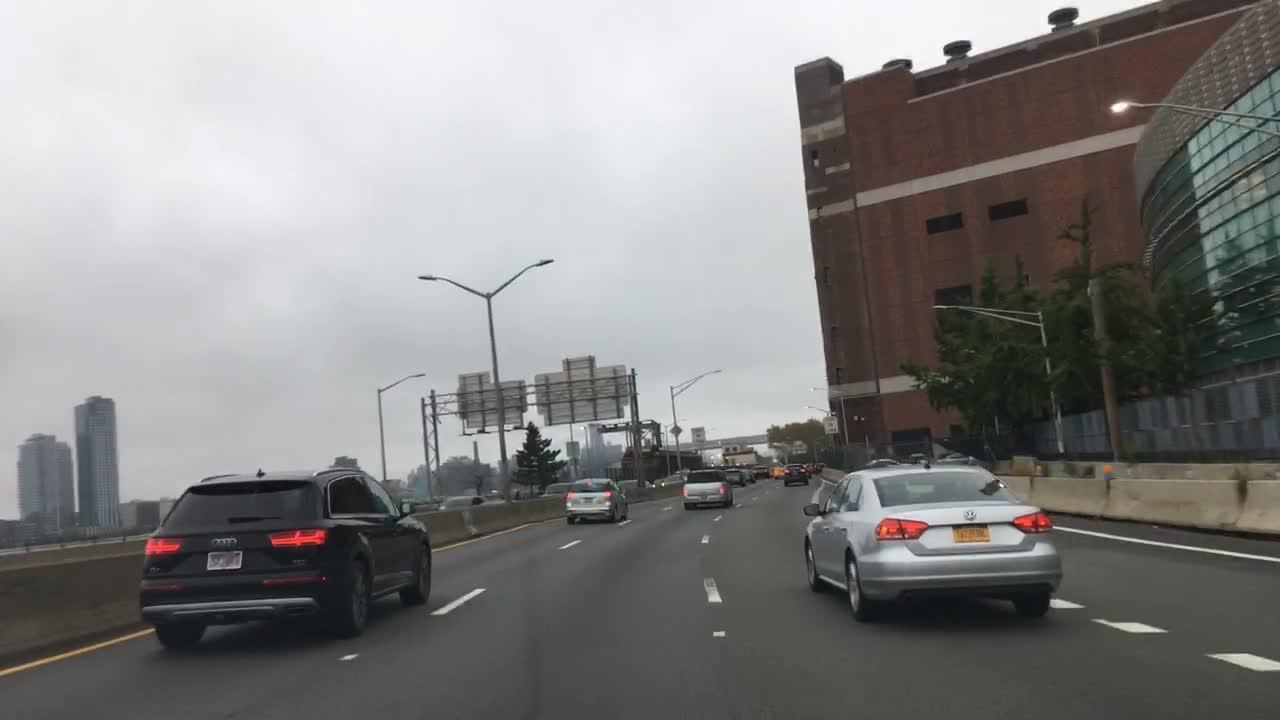Audi: (207, 535, 248, 553)
Volkswagen: (958, 509, 980, 524)
